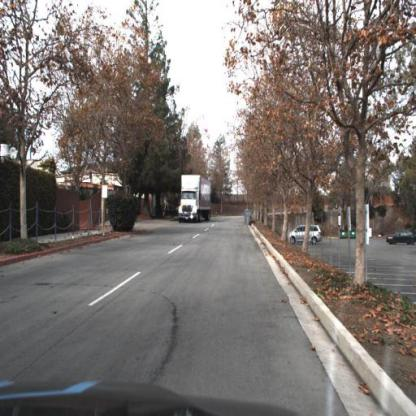car: (289, 223, 323, 246), (386, 226, 416, 247)
truck: (177, 172, 212, 227)
